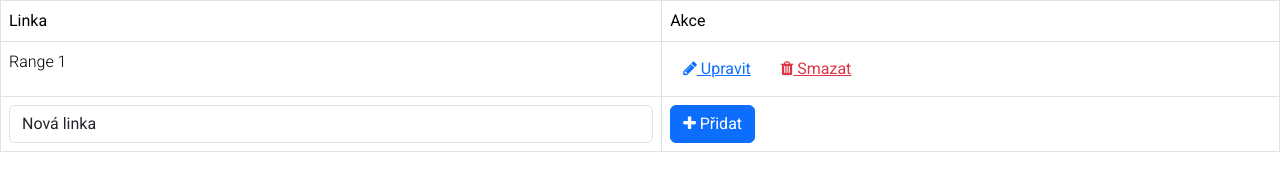
Test: Ranges › allows deleting a range
Expected: the text "Range 1" is shown, [0,42,662,96]
Step 1. Click the button "Smazat" → [817, 69], box [768,50,865,88]
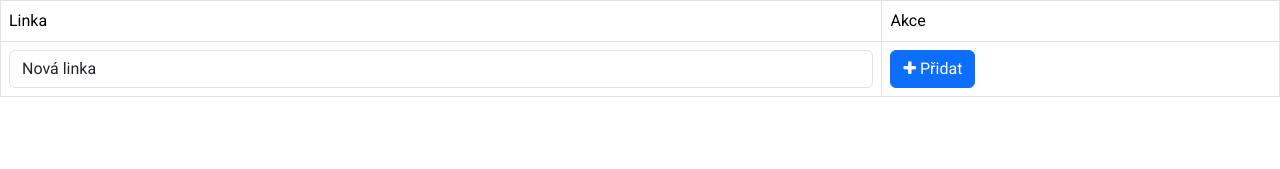
Expected: the text "Range 1" is gone
